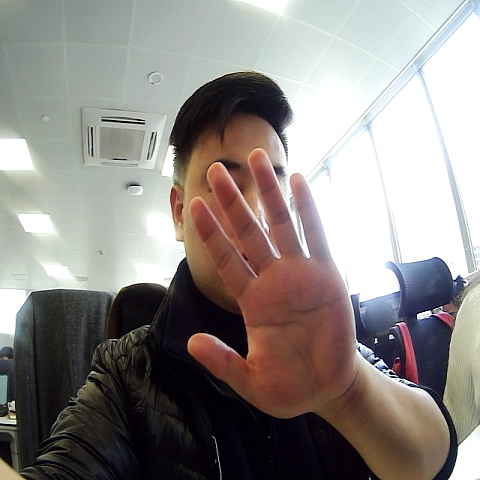palm: (172, 145, 372, 422)
